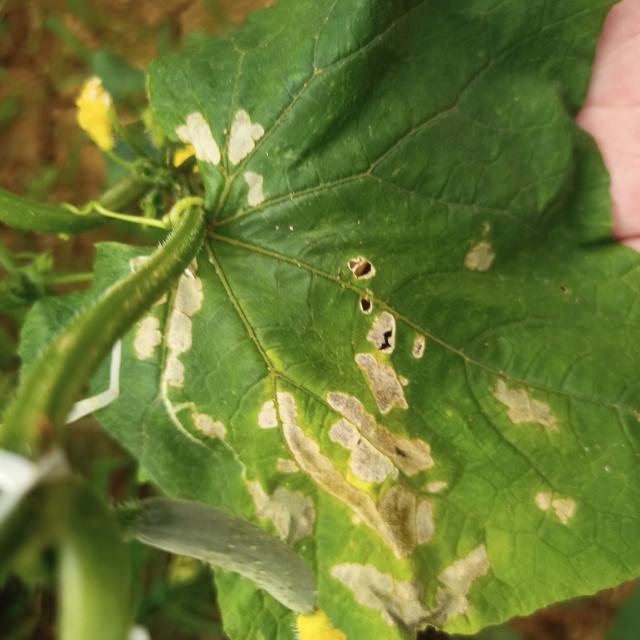disease_cucumber: (240, 255, 574, 626), (136, 104, 264, 437)
